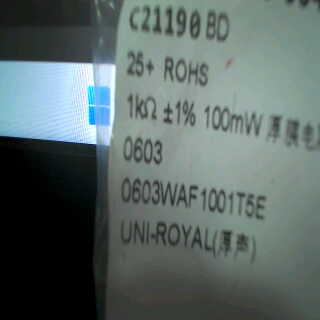1kR: (126, 89, 158, 123)
